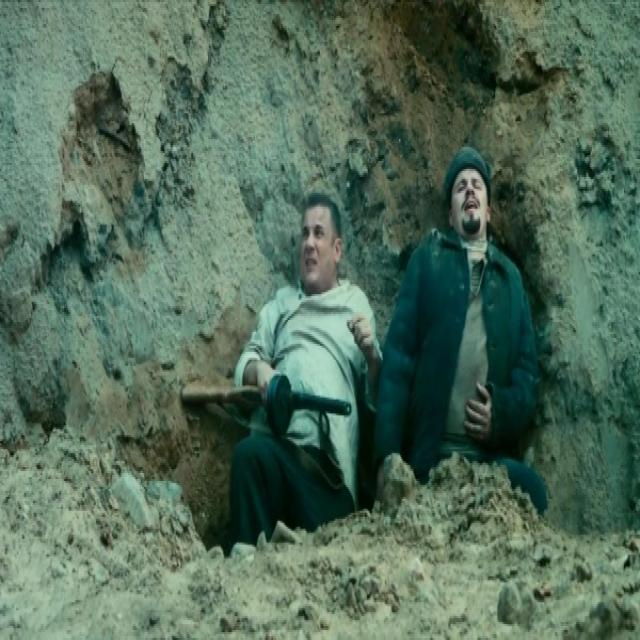rifle: (180, 378, 355, 451)
